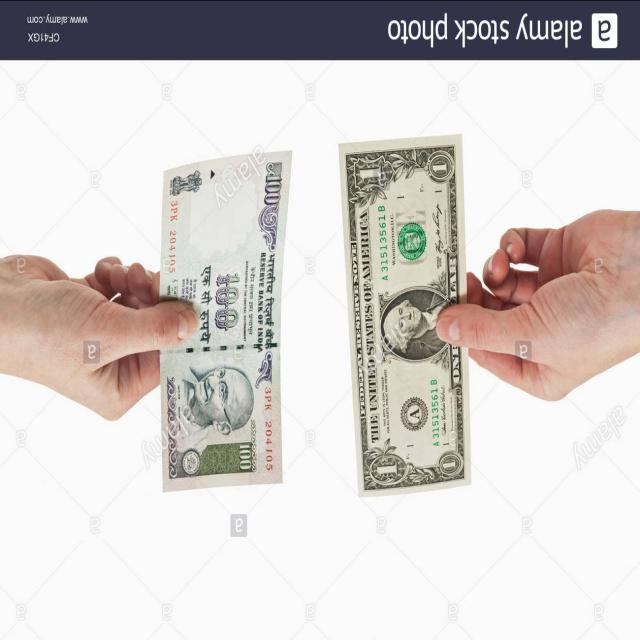100IndianRupees: (166, 148, 289, 488)
